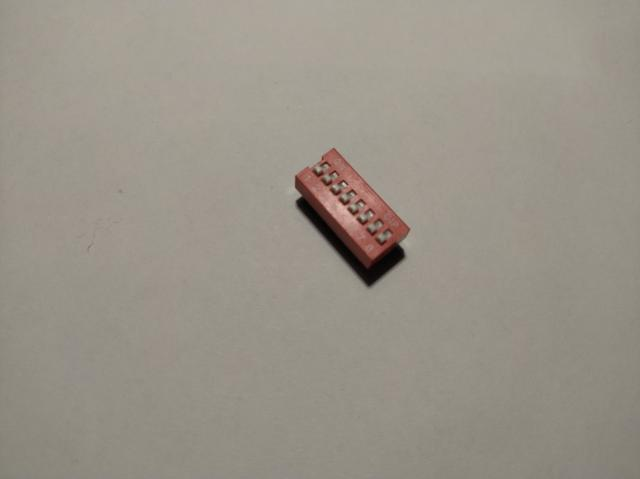dip_switch: (295, 148, 411, 268)
